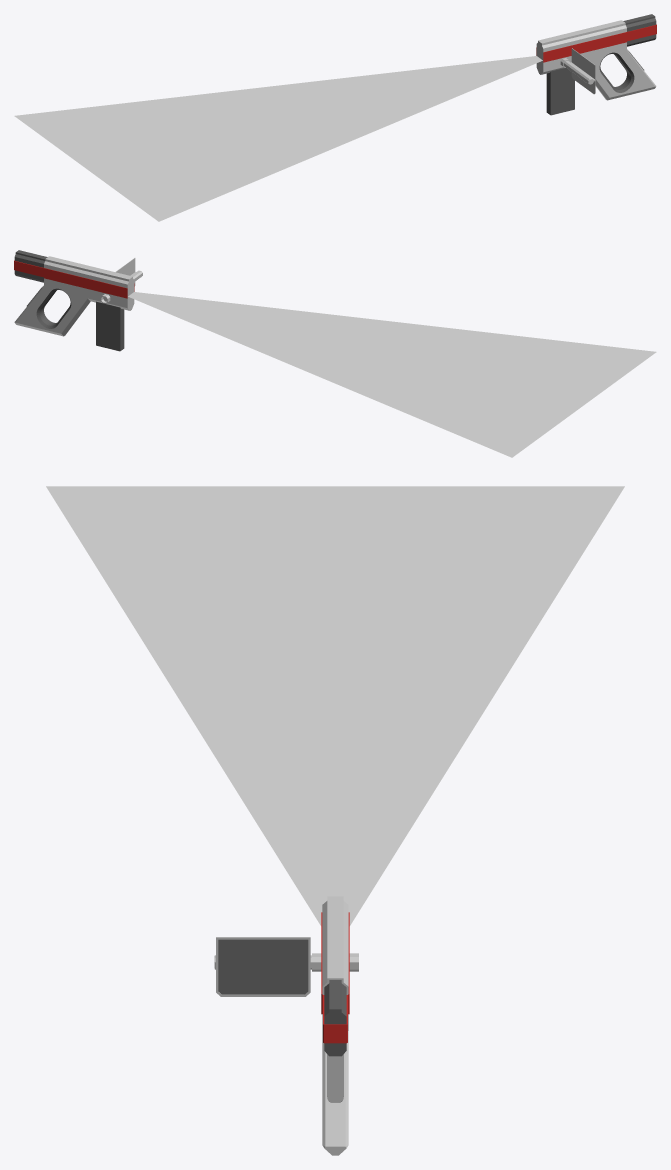
File: Scanner_Low.fbx
The picture shows the model from 3 angles, top to bottom: view 1: azimuth 30°, elevation 25°; view 2: azimuth 150°, elevation 25°; view 3: azimuth 270°, elevation 25°; orthographic projection. The views are drawn at different scales.
Visible parts, largest first — view 1: ScannerPlane, ScannerMain1_low, ScannerScreen1_low; view 2: ScannerPlane, ScannerMain1_low; view 3: ScannerPlane, ScannerMain1_low, ScannerScreen1_low.
Part boxes in pixels (x1,y1,x2,y2): ScannerPlane: (14,56,542,221); ScannerMain1_low: (536,14,656,115); ScannerScreen1_low: (564,48,595,94); ScannerPlane: (128,292,656,457); ScannerMain1_low: (14,250,134,351); ScannerPlane: (46,486,624,925); ScannerMain1_low: (312,896,358,1155); ScannerScreen1_low: (214,937,311,996).
Size of the model in its own units: 453 by 56.45 by 200.
